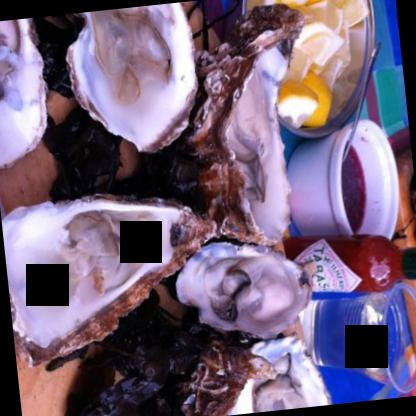oyster: (0, 180, 224, 364), (185, 9, 332, 247), (58, 2, 206, 160), (175, 228, 314, 335), (0, 17, 54, 174), (230, 333, 328, 413)
